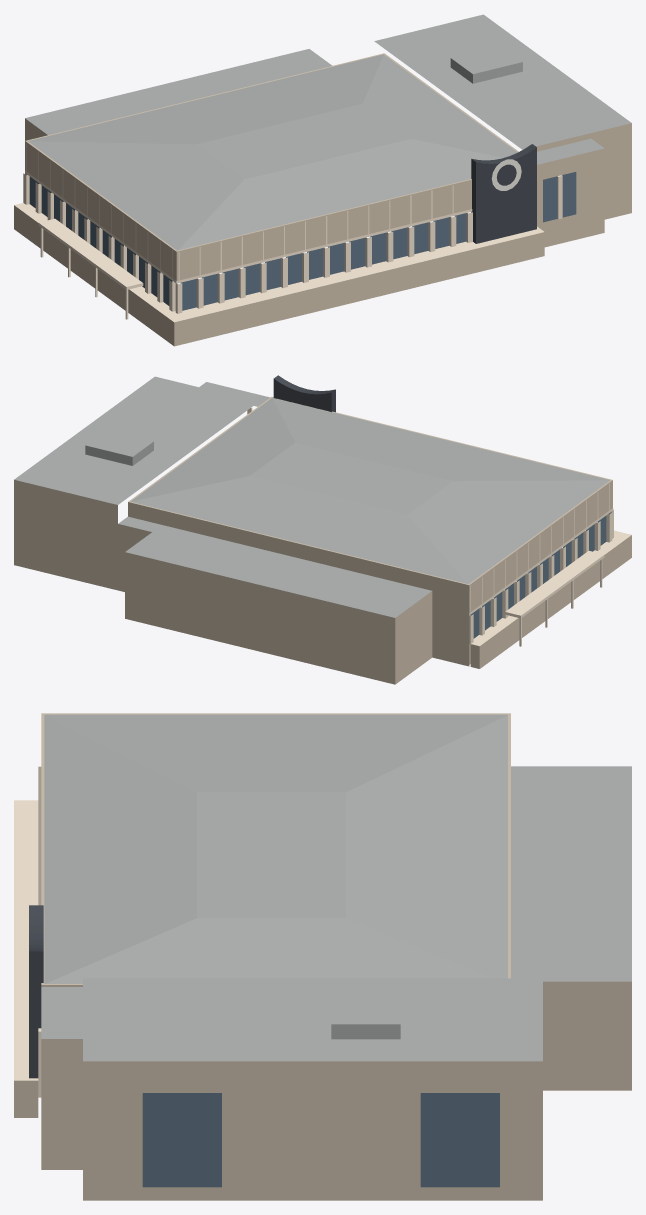
The model's file is hou-lakewood-church.glb.
The picture shows the model from 3 angles, top to bottom: view 1: azimuth 30°, elevation 25°; view 2: azimuth 150°, elevation 25°; view 3: azimuth 270°, elevation 25°; orthographic projection. The views are drawn at different scales.
Parts seen in each view (by area): view 1: Lakewood Church Central Campus; view 2: Lakewood Church Central Campus; view 3: Lakewood Church Central Campus.
Boxes of the visible parts, box(x1,y1,x2,y2) form: Lakewood Church Central Campus: box(14, 14, 631, 346); Lakewood Church Central Campus: box(14, 375, 631, 684); Lakewood Church Central Campus: box(14, 713, 631, 1200).
Size of the model in its own units: 177 by 36.5 by 124.
